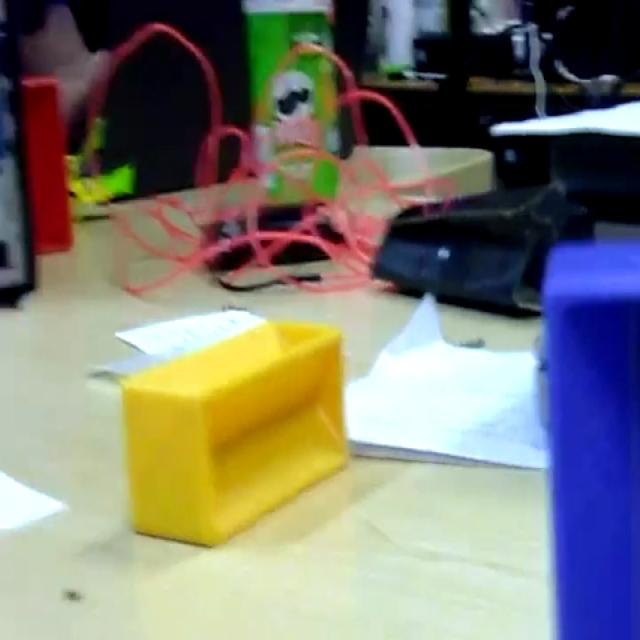blue_block: (540, 235, 638, 636)
red_block: (18, 72, 74, 255)
yellow_block: (119, 317, 349, 547)
